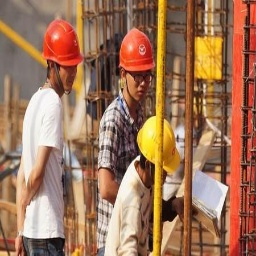helmet: (40, 18, 86, 77), (117, 26, 158, 84)
no-vest: (20, 84, 68, 250), (113, 162, 166, 256)
person: (14, 18, 87, 254), (98, 24, 155, 256), (117, 113, 183, 256)
